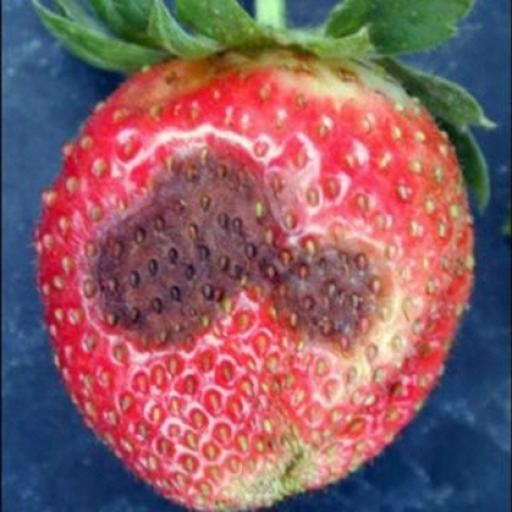Anthracnose Fruit Rot: (109, 140, 428, 357)
